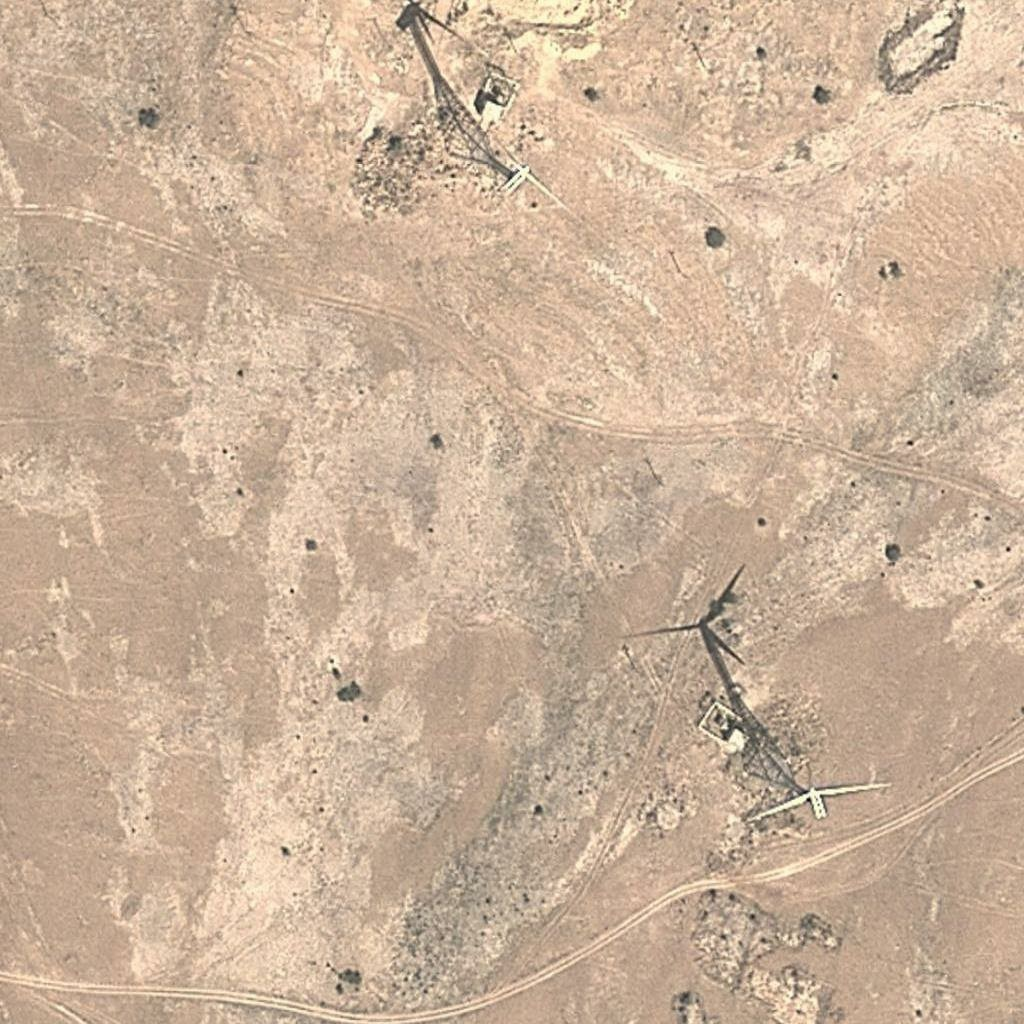Windmill: (386, 4, 518, 168)
